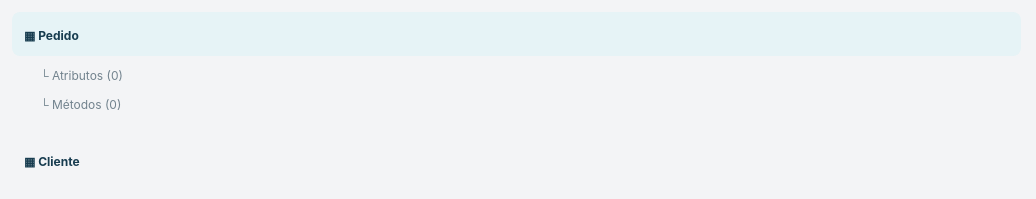
FE-17 — CRUD de classes e seleção › permite selecionar outra classe por props
What coordinates should you click on to do the following:
click the button with class "editor-fe15__class-item" showing "▦ Cliente"
I would click on:
 (59, 162)
Its box is [12, 138, 1021, 182].
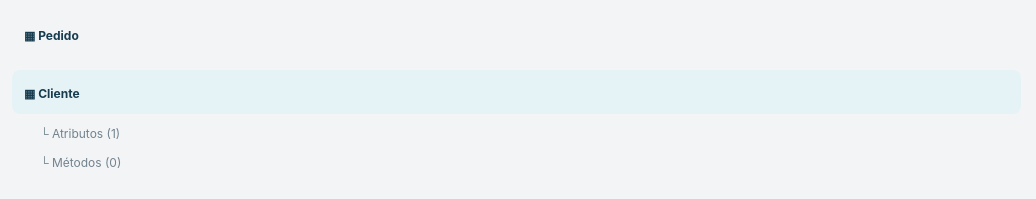
Check: the text "Atributos (1)" is shown, box [40, 126, 120, 141]
